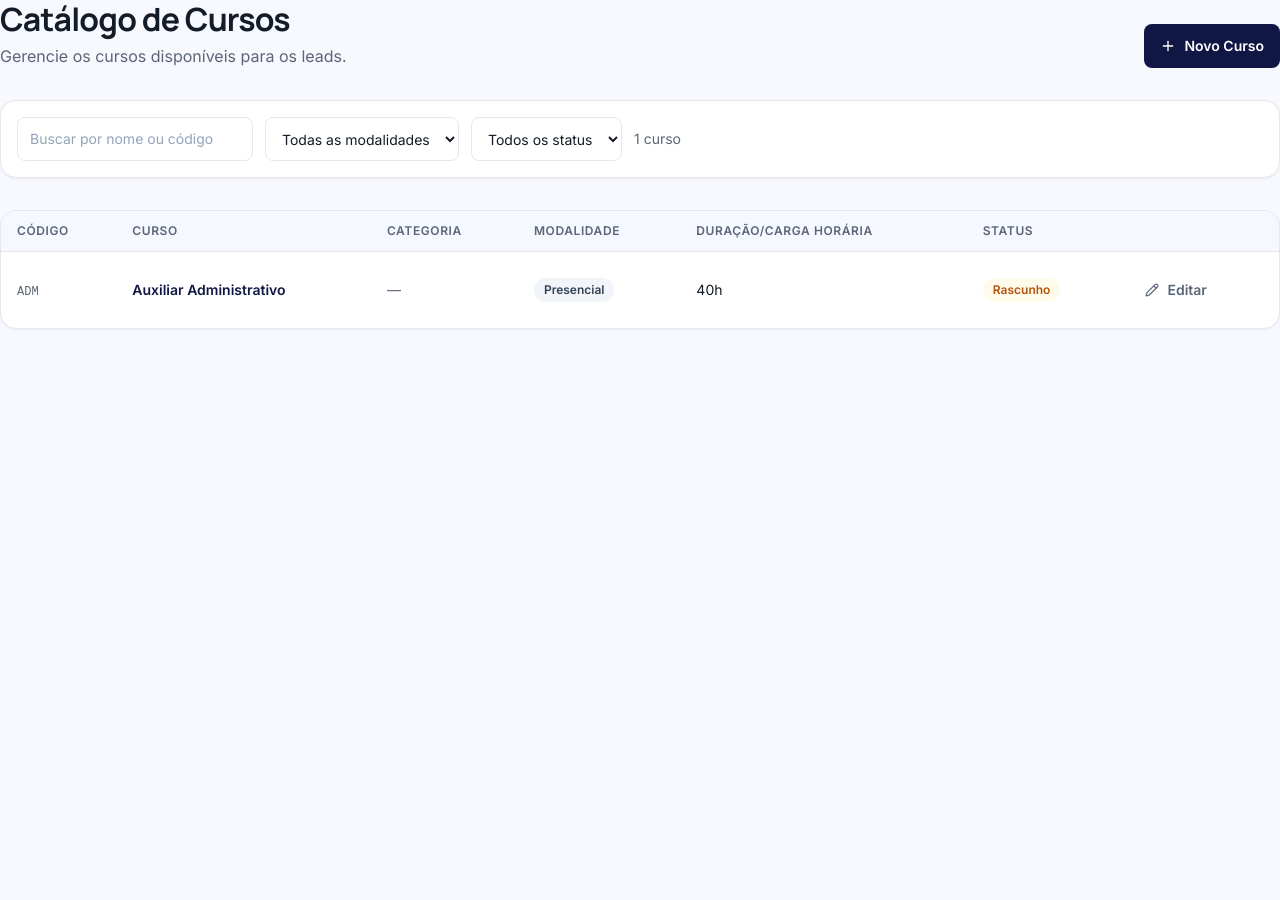
Test case: CourseCatalog › não exibe select de status editável na criação de curso
Click the button "Novo Curso": (1212,46) left=1144, top=24, right=1279, bottom=68
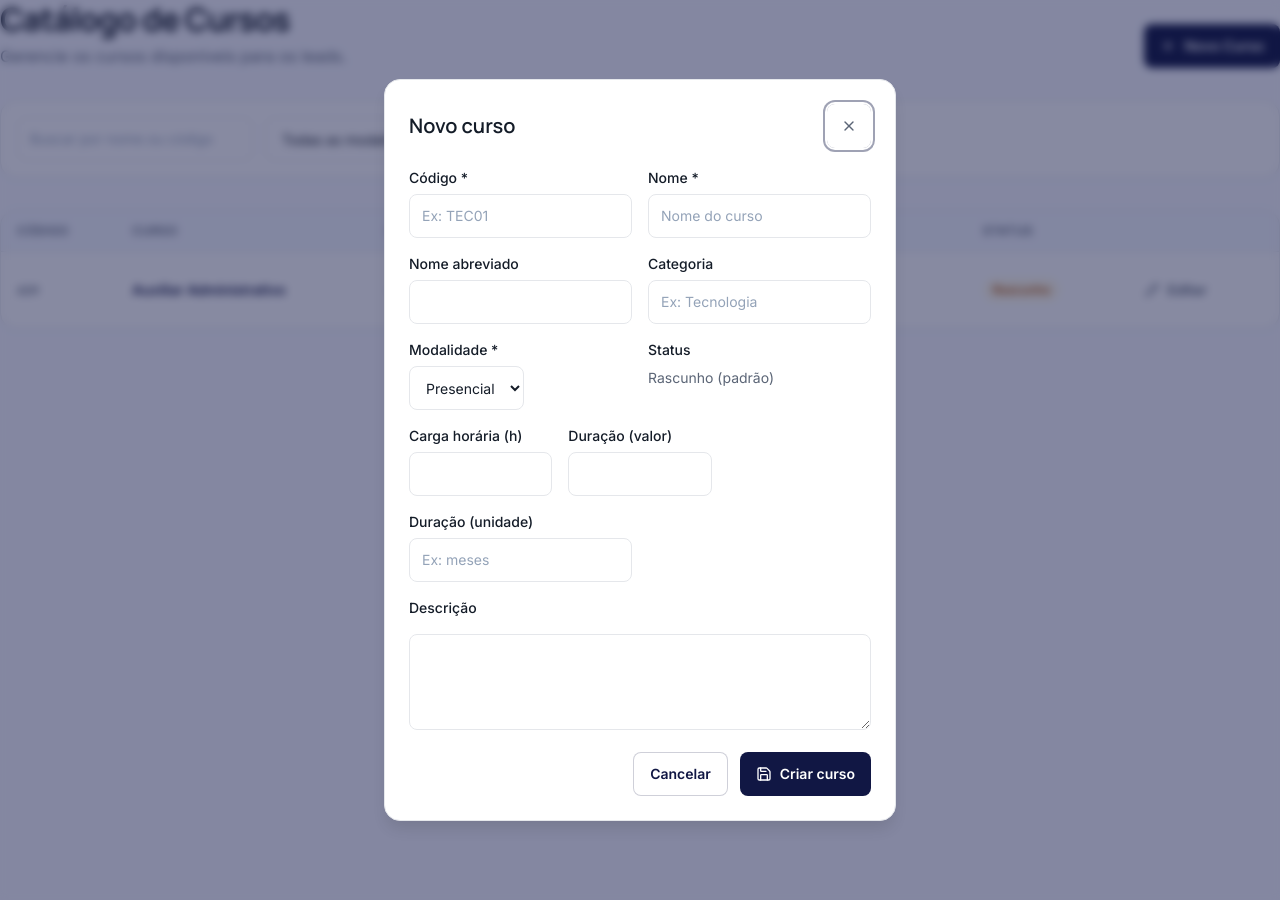
Expected: the text "Rascunho (padrão)" is shown, left=648, top=369, right=774, bottom=386
